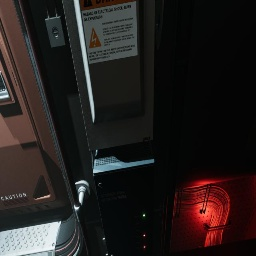SafetySwitchPanel ,: (62, 0, 164, 151)
